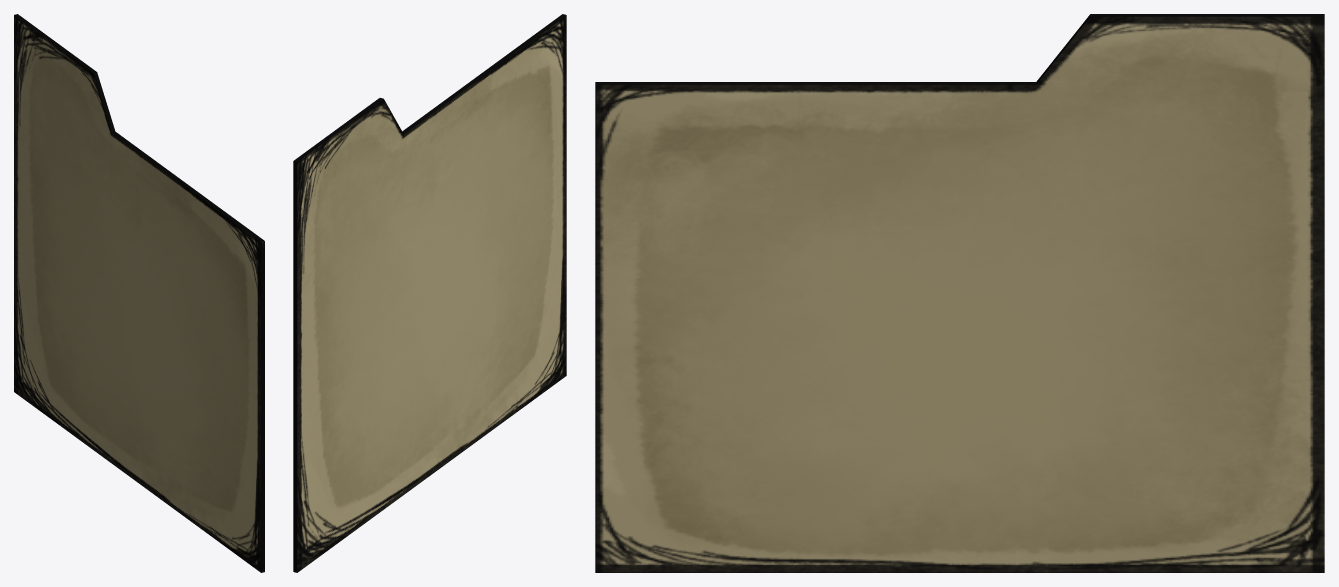
File: folder_empty.fbx
The picture shows the model from 3 angles, left to right: view 1: azimuth 30°, elevation 25°; view 2: azimuth 150°, elevation 25°; view 3: azimuth 270°, elevation 25°; orthographic projection. The views are drawn at different scales.
Visible parts, largest first — view 1: folder.001; view 2: folder.001; view 3: folder.001.
Boxes of the visible parts, bbox=[...] form: folder.001: bbox=[14, 14, 264, 572]; folder.001: bbox=[293, 14, 566, 572]; folder.001: bbox=[595, 14, 1324, 572].
Bounding box in the file's own units: 0.5556 × 53.74 × 63.85.
1 material, 1 textured.
